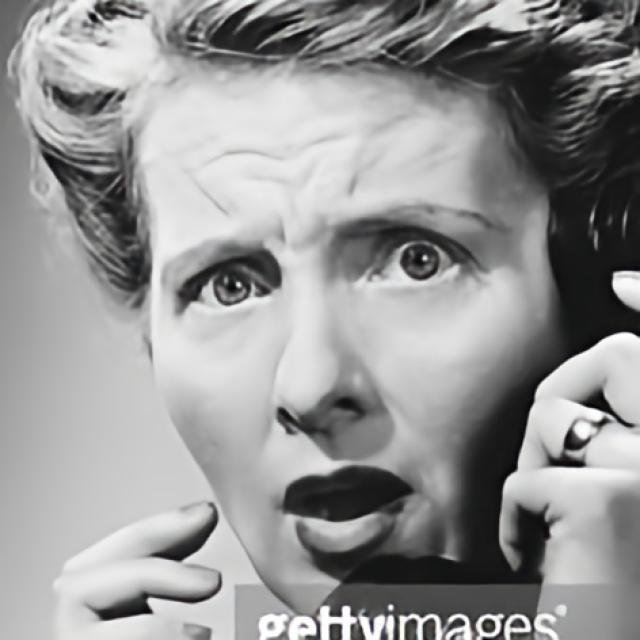fear: (145, 52, 592, 636)
